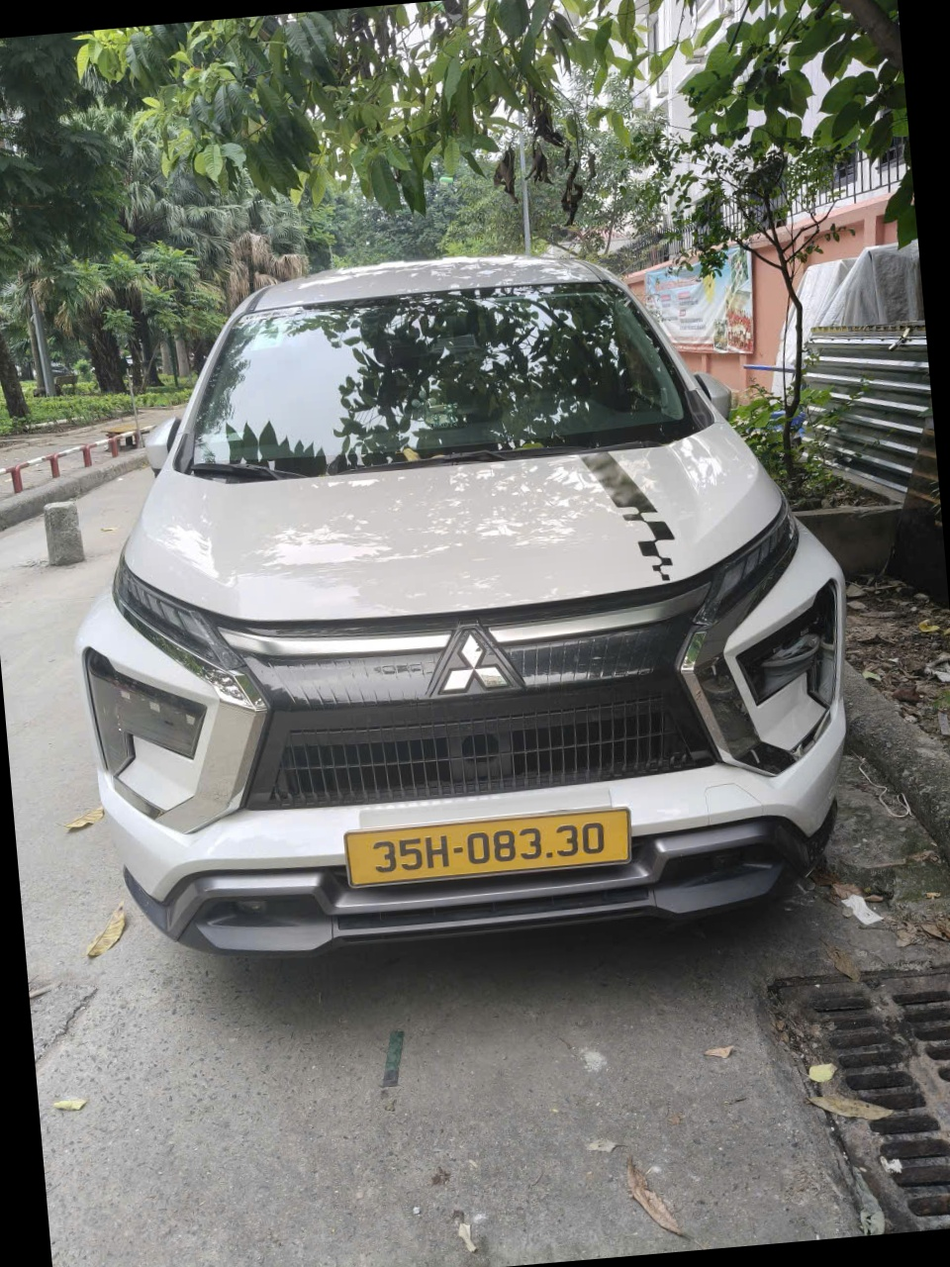plate: (197, 920, 336, 955)
